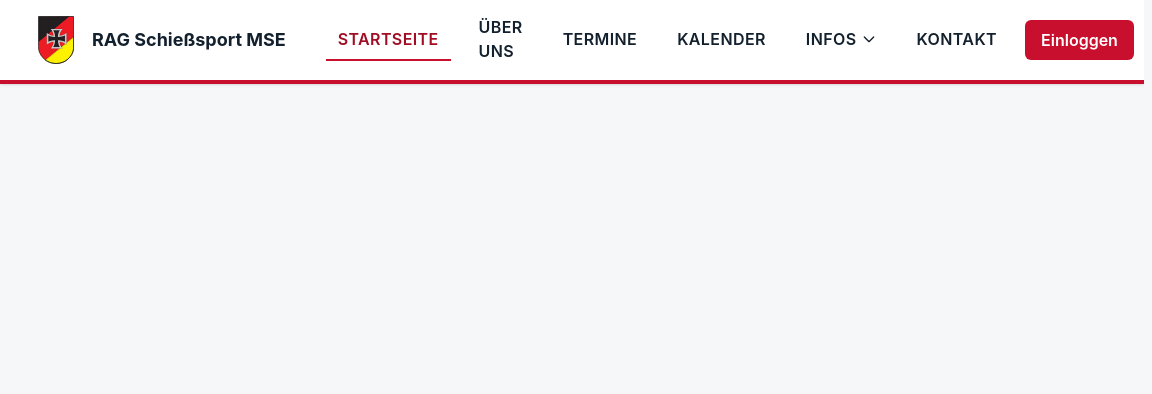
Scenario: Navigation › closes the infos dropdown when clicking outside
This screenshot has width=1152, height=394.
Click the button "Infos".
click(841, 40)  # box [794,19,888,61]
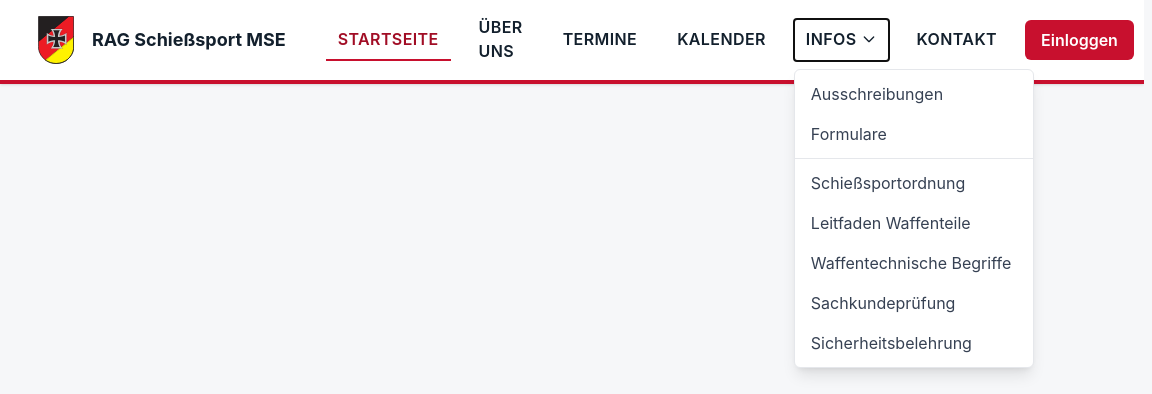
expect the link "Schießsportordnung" is shown: met, box [811,173,965,193]
Click the navigation bar.
click(572, 42)  # box [0,0,1144,84]
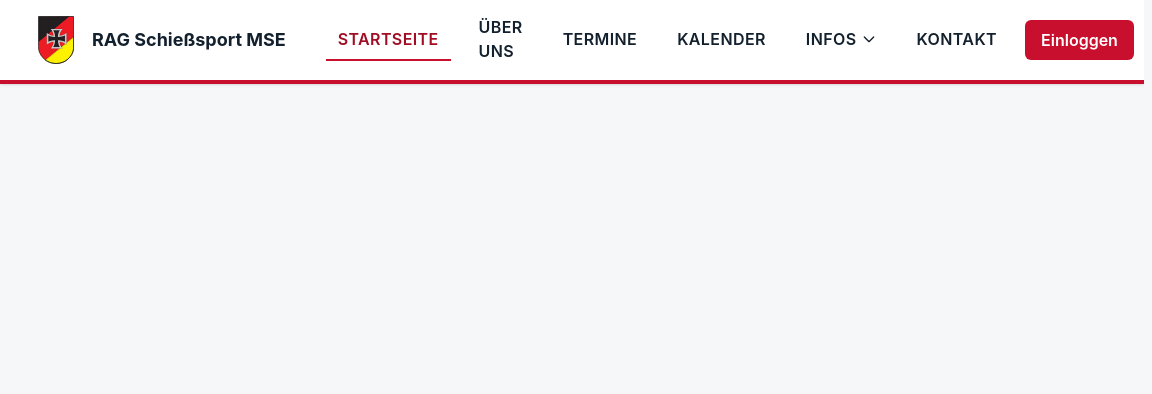
expect the link "Schießsportordnung" is gone: met
